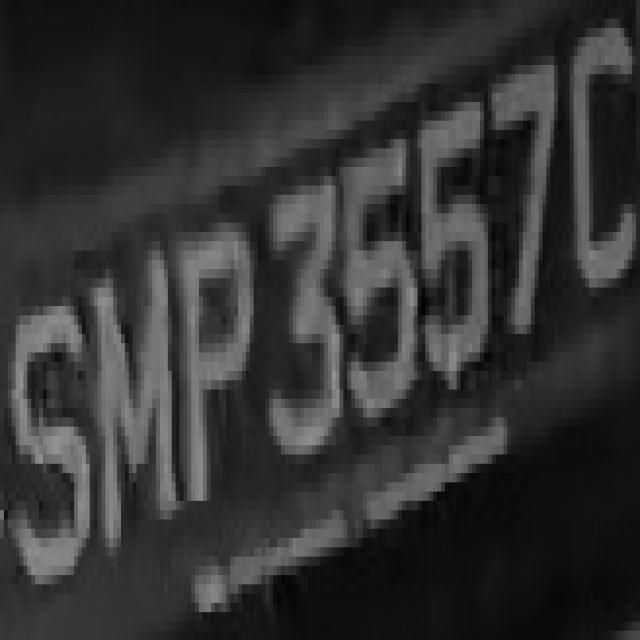3: (262, 148, 348, 482)
5: (336, 130, 418, 454), (406, 84, 488, 408)
7: (476, 46, 558, 362)
C: (562, 9, 632, 306)
M: (94, 241, 180, 557)
P: (184, 204, 258, 529)
S: (12, 269, 94, 612)
